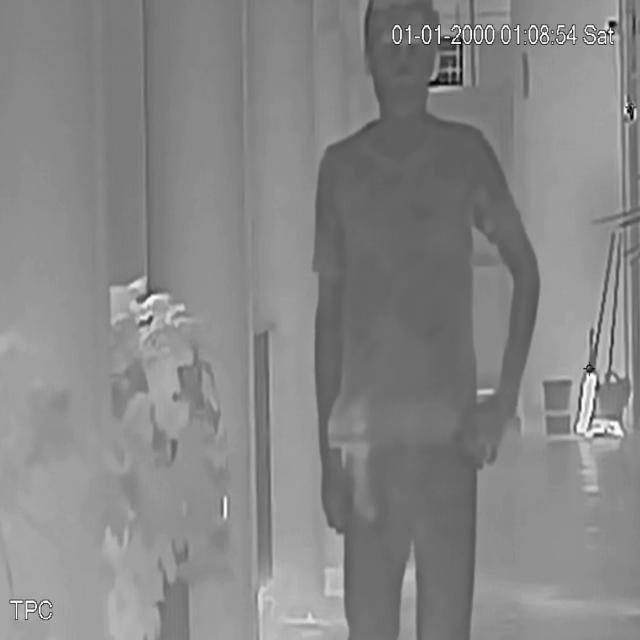Weapon: (316, 408, 388, 540)
